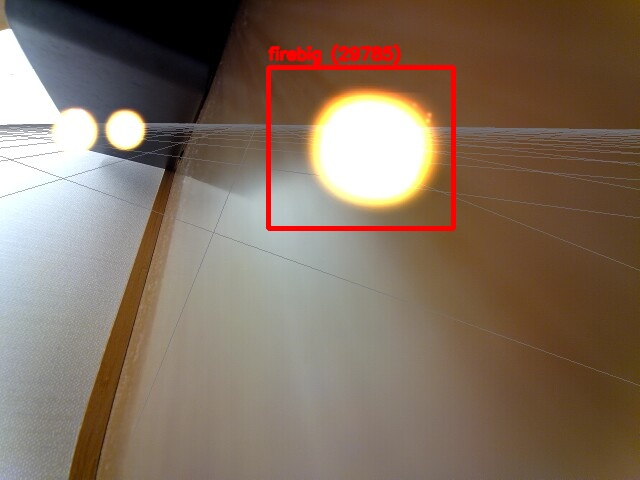firebig: (268, 67, 453, 228)
